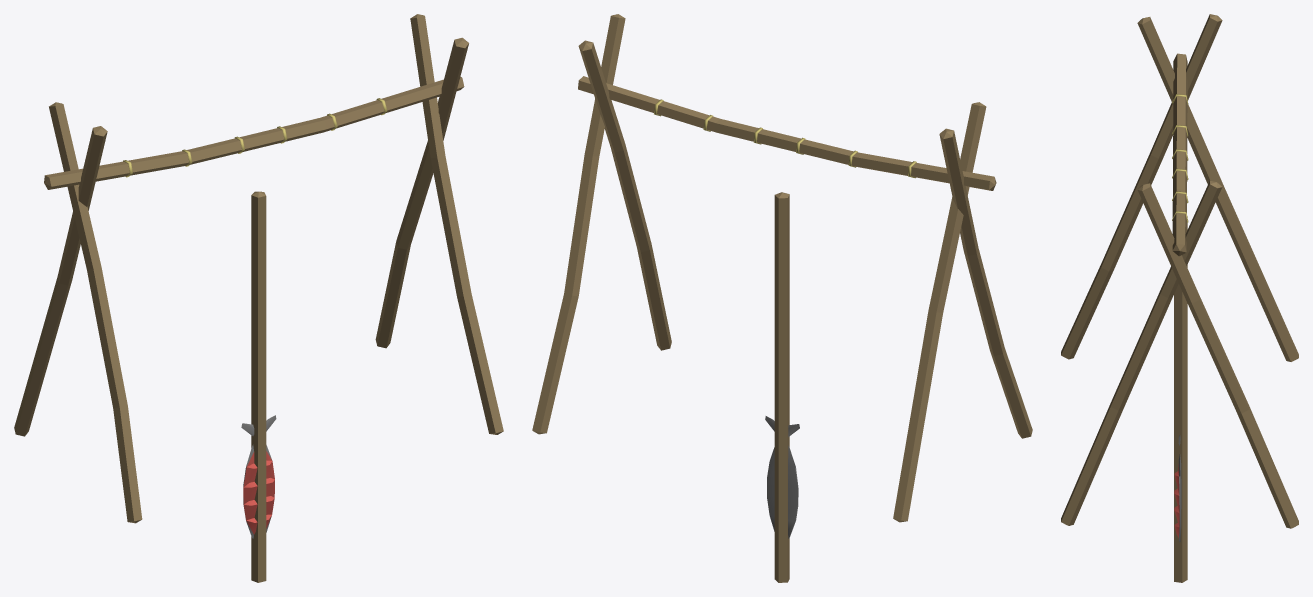
Rendered from arctic_fishrack.fbx.
3 views of the same model, side by side, from view 1: azimuth 30°, elevation 25°; view 2: azimuth 150°, elevation 25°; view 3: azimuth 270°, elevation 25° (orthographic). The views are drawn at different scales.
Visible parts, largest first — view 1: arctic_fishrack, arctic_pole_01, arctic_fish, arctic_pole_02, arctic_pole3; view 2: arctic_fishrack, arctic_pole_01, arctic_pole3, arctic_fish, arctic_pole_02; view 3: arctic_fishrack, arctic_pole_01, arctic_pole_02, arctic_fish.
Boxes of the visible parts, x1,y1,x2,y2 form: arctic_fishrack: (14, 14, 503, 523); arctic_pole_01: (251, 191, 266, 582); arctic_fish: (241, 415, 276, 538); arctic_pole_02: (251, 286, 266, 582); arctic_pole3: (251, 336, 265, 532); arctic_fishrack: (532, 14, 1032, 522); arctic_pole_01: (774, 192, 789, 582); arctic_pole3: (777, 337, 789, 532); arctic_fish: (765, 416, 799, 538); arctic_pole_02: (774, 285, 789, 582); arctic_fishrack: (1061, 14, 1298, 528); arctic_pole_01: (1174, 216, 1187, 582); arctic_pole_02: (1174, 303, 1187, 581); arctic_fish: (1174, 435, 1181, 542).
Size of the model in its own units: 2.29 by 2.67 by 1.19.
